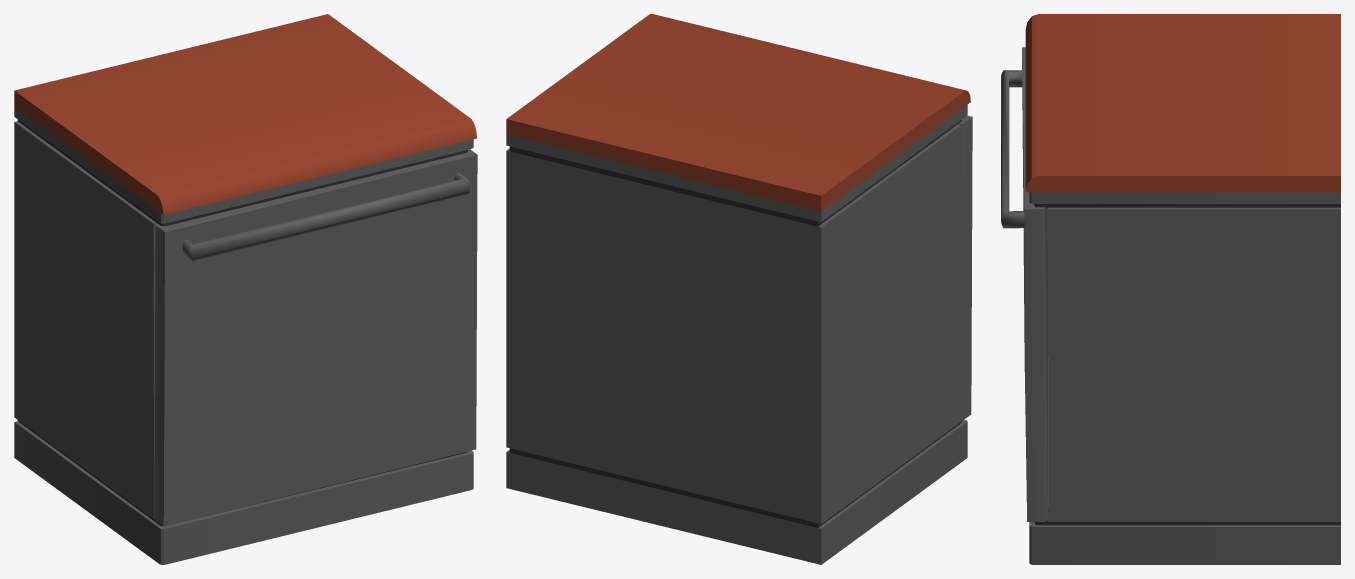
Rendered from .fbx_Sp_lmaschine.fbx.
3 renders of one model, left to right at view 1: azimuth 30°, elevation 25°; view 2: azimuth 150°, elevation 25°; view 3: azimuth 270°, elevation 25°, orthographic. The views are drawn at different scales.
Visible parts, largest first — view 1: Spülmaschine, Tür.002, Griff; view 2: Spülmaschine, Tür.002; view 3: Spülmaschine, Tür.002, Griff.
Boxes of the visible parts, x1,y1,x2,y2 form: Spülmaschine: (14,14,476,564); Tür.002: (154,149,477,526); Griff: (182,172,469,261); Spülmaschine: (506,14,970,564); Tür.002: (958,115,972,421); Spülmaschine: (1025,14,1340,564); Tür.002: (1022,47,1048,521); Griff: (1001,70,1024,228).
Bounding box in the file's own units: 0.8 × 0.8954 × 0.7088.
